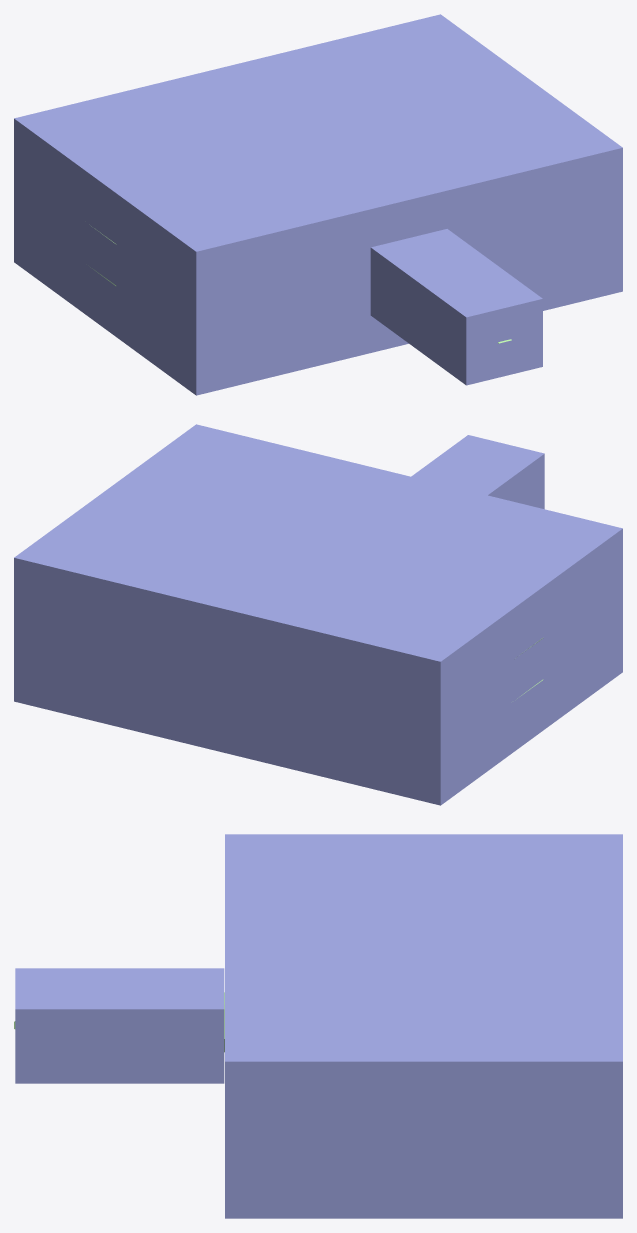
File: Vehicle_Air_XWing_T65_Physics_Win32.glb
3 renders of one model, top to bottom at view 1: azimuth 30°, elevation 25°; view 2: azimuth 150°, elevation 25°; view 3: azimuth 270°, elevation 25°, orthographic. The views are drawn at different scales.
Visible parts, largest first — view 1: r0_i1_p7_convex, r0_i0_p7_convex; view 2: r0_i1_p7_convex, r0_i0_p7_convex; view 3: r0_i1_p7_convex, r0_i0_p7_convex.
Part boxes in pixels (x1,y1,x2,y2): r0_i1_p7_convex: (14,14,622,395); r0_i0_p7_convex: (370,229,542,385); r0_i1_p7_convex: (14,424,622,805); r0_i0_p7_convex: (411,435,544,509); r0_i1_p7_convex: (225,834,622,1218); r0_i0_p7_convex: (15,968,224,1083).
Size of the model in its own units: 11.04 by 3.55 by 12.49.
